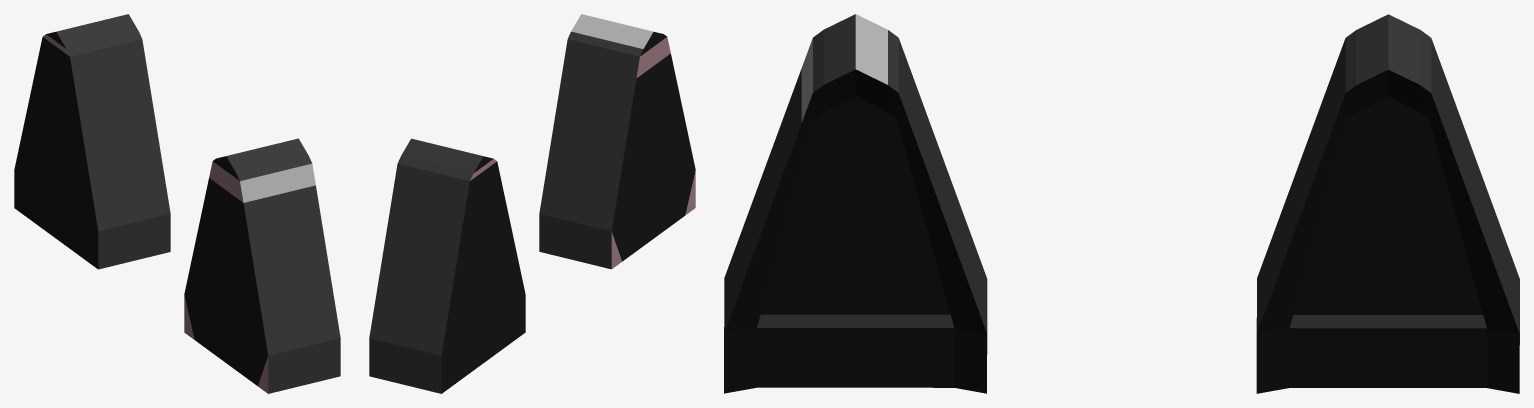
Rendered from catears.obj.
3 views of the same model, side by side, from view 1: azimuth 30°, elevation 25°; view 2: azimuth 150°, elevation 25°; view 3: azimuth 270°, elevation 25° (orthographic). The views are drawn at different scales.
Parts seen in each view (by area): view 1: rightshoulder.002_Cube.011; view 2: rightshoulder.002_Cube.011; view 3: rightshoulder.002_Cube.011.
Part boxes in pixels (x1=…): rightshoulder.002_Cube.011: x1=14, y1=14, x2=340, y2=393; rightshoulder.002_Cube.011: x1=369, y1=14, x2=695, y2=393; rightshoulder.002_Cube.011: x1=724, y1=14, x2=1519, y2=393.
Size of the model in its own units: 0.0616 by 0.1683 by 0.374.
